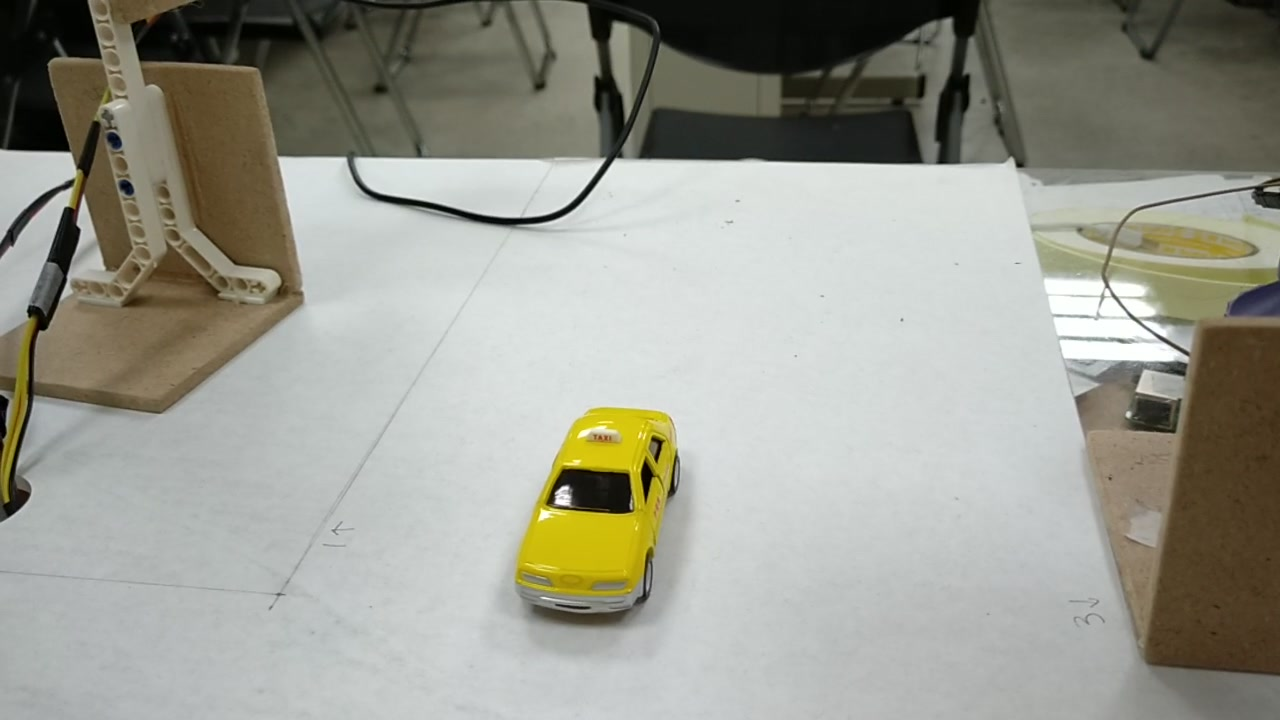car: (512, 398, 683, 628)
